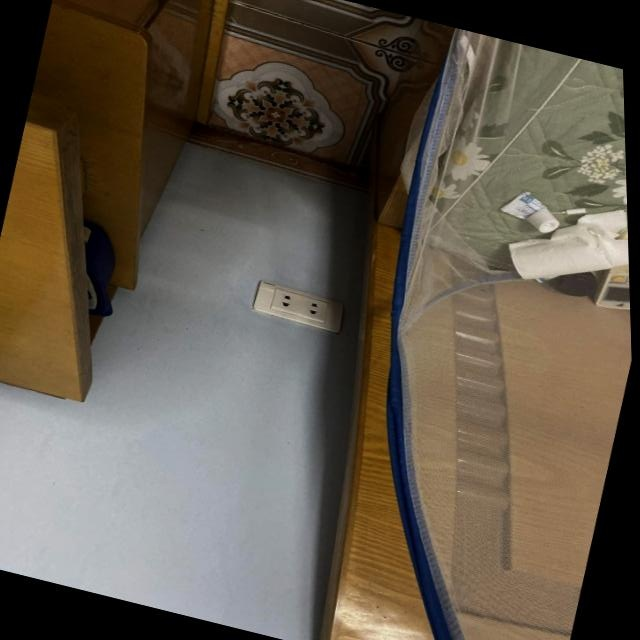outlet: (249, 280, 347, 336)
